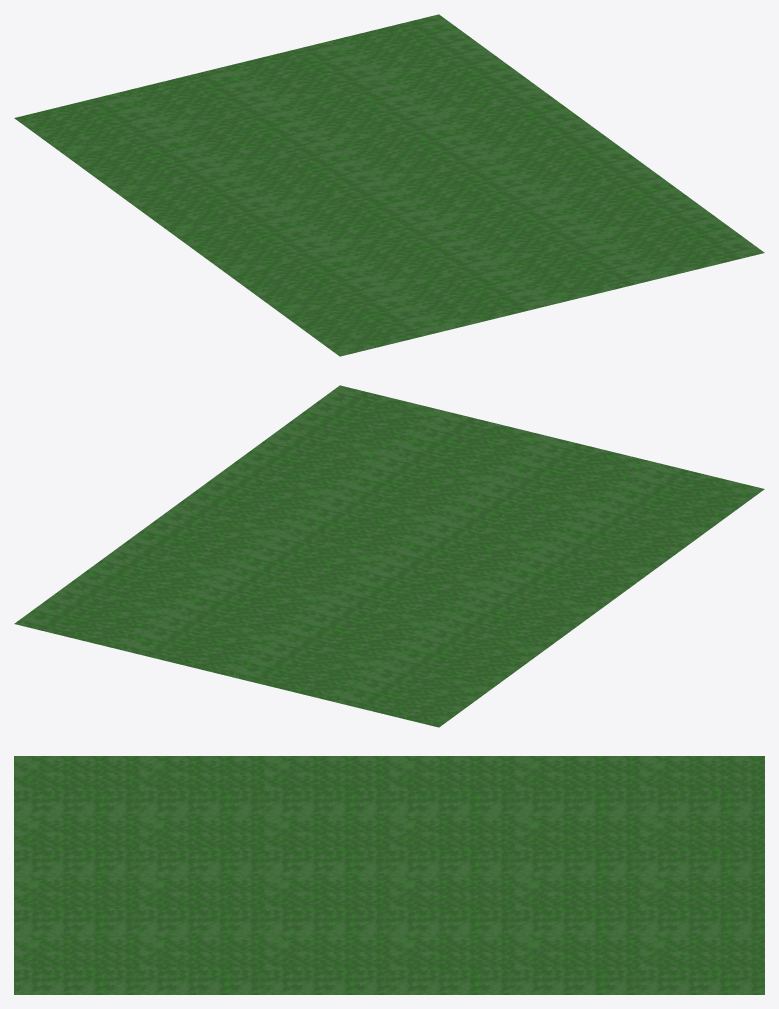
Rendered from ground.fbx.
3 renders of one model, top to bottom at view 1: azimuth 30°, elevation 25°; view 2: azimuth 150°, elevation 25°; view 3: azimuth 270°, elevation 25°, orthographic. The views are drawn at different scales.
Visible parts, largest first — view 1: Ground; view 2: Ground; view 3: Ground.
Boxes of the visible parts, bbox=[...] form: Ground: bbox=[14, 14, 764, 356]; Ground: bbox=[14, 385, 764, 727]; Ground: bbox=[14, 756, 764, 994].
Size of the model in its own units: 12981 by 0.00281 by 17243.
1 material, 1 textured.
